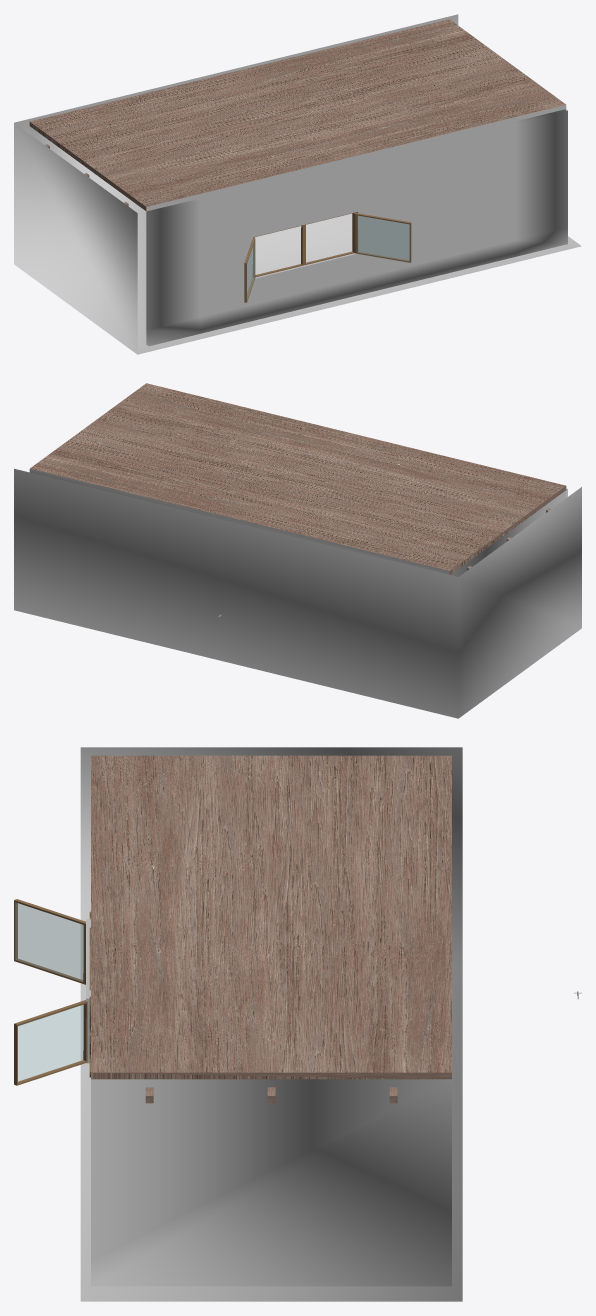
The model's file is 部屋（Ryz用）改.fbx.
The picture shows the model from 3 angles, top to bottom: view 1: azimuth 30°, elevation 25°; view 2: azimuth 150°, elevation 25°; view 3: azimuth 270°, elevation 25°; orthographic projection. The views are drawn at different scales.
Parts seen in each view (by area): view 1: 部屋, 立方体; view 2: 部屋; view 3: 部屋, 立方体.
Boxes of the visible parts, bbox=[...] form: 部屋: bbox=[14, 14, 581, 354]; 立方体: bbox=[244, 212, 411, 302]; 部屋: bbox=[14, 383, 581, 718]; 部屋: bbox=[80, 747, 462, 1301]; 立方体: bbox=[14, 899, 90, 1085].
Size of what is drawn, in the model's own units: 19126 by 5846 by 13687.
